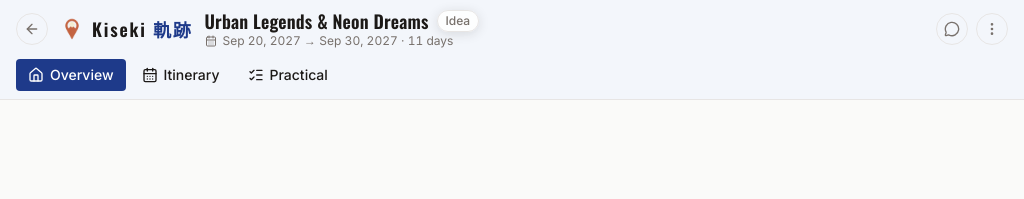
Test: TripLayout › the header menu keeps the booklet + a way into settings, and nothing else (#248)
The image size is (1024, 199).
Click the button named "Trip actions". click: (992, 29)
box: left=976, top=13, right=1008, bottom=45
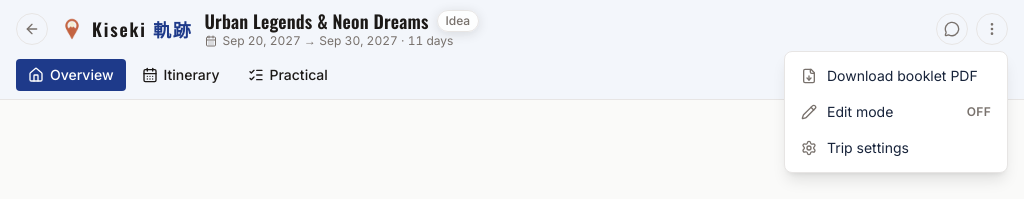
expect the menu is shown: met, box left=784, top=51, right=1008, bottom=173
expect the text "Download booklet PDF" is shown: met, box left=827, top=66, right=978, bottom=86
